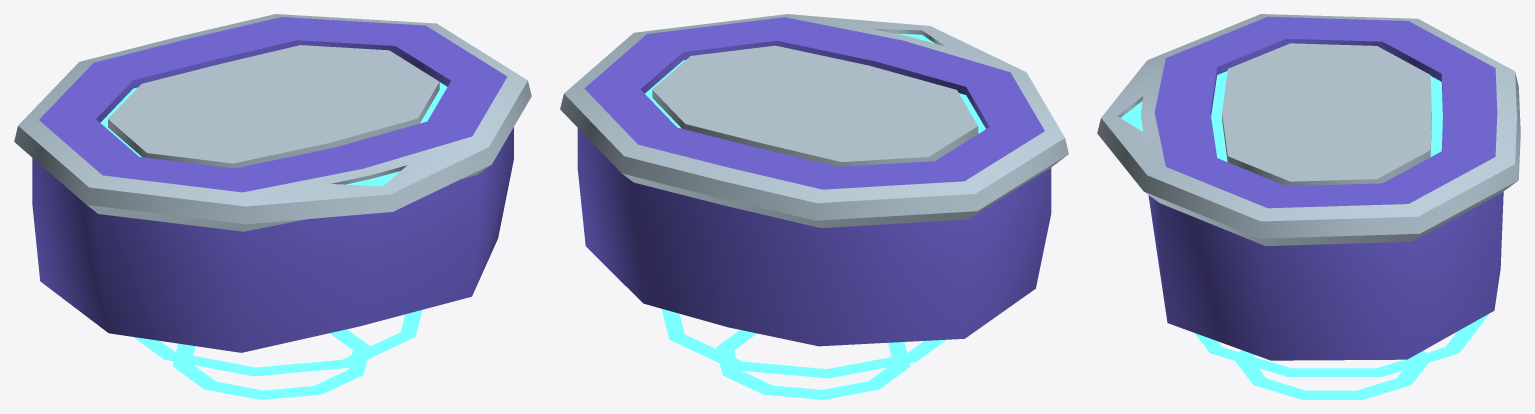
File: FloatingPlatform.fbx
The picture shows the model from 3 angles, left to right: view 1: azimuth 30°, elevation 25°; view 2: azimuth 150°, elevation 25°; view 3: azimuth 270°, elevation 25°; orthographic projection. The views are drawn at different scales.
Visible parts, largest first — view 1: FloatingPlatform; view 2: FloatingPlatform; view 3: FloatingPlatform.
Part boxes in pixels (left/top/right/bottom): FloatingPlatform: left=14, top=14, right=531, bottom=399; FloatingPlatform: left=560, top=14, right=1068, bottom=399; FloatingPlatform: left=1097, top=14, right=1520, bottom=399.
Bounding box in the file's own units: 476 × 262 × 405.
